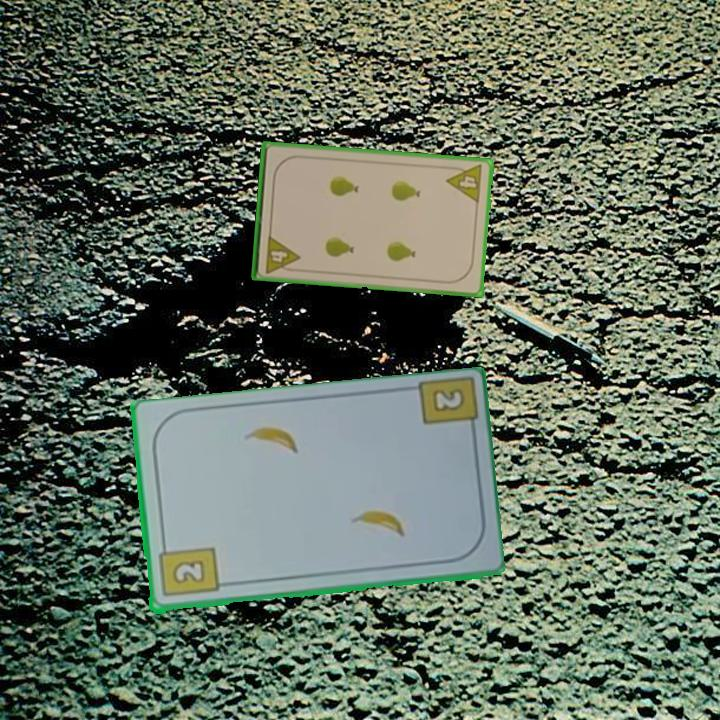2b: (412, 376, 478, 441), (155, 539, 220, 600)
4p: (443, 161, 486, 206), (262, 231, 302, 276)
